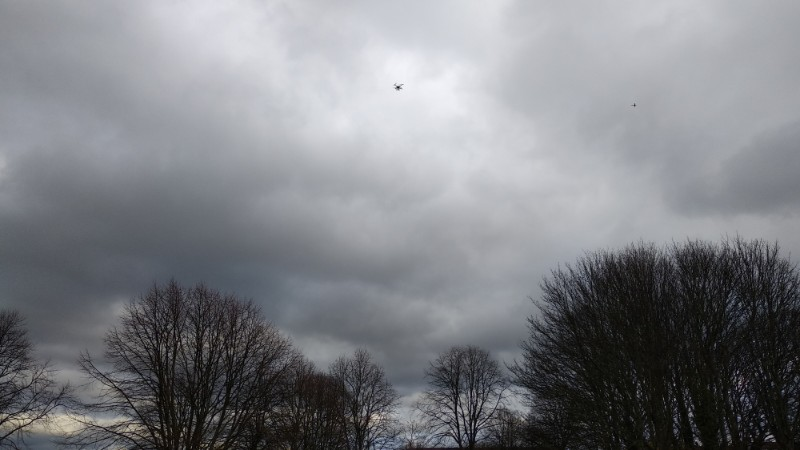drone: (391, 81, 405, 92)
